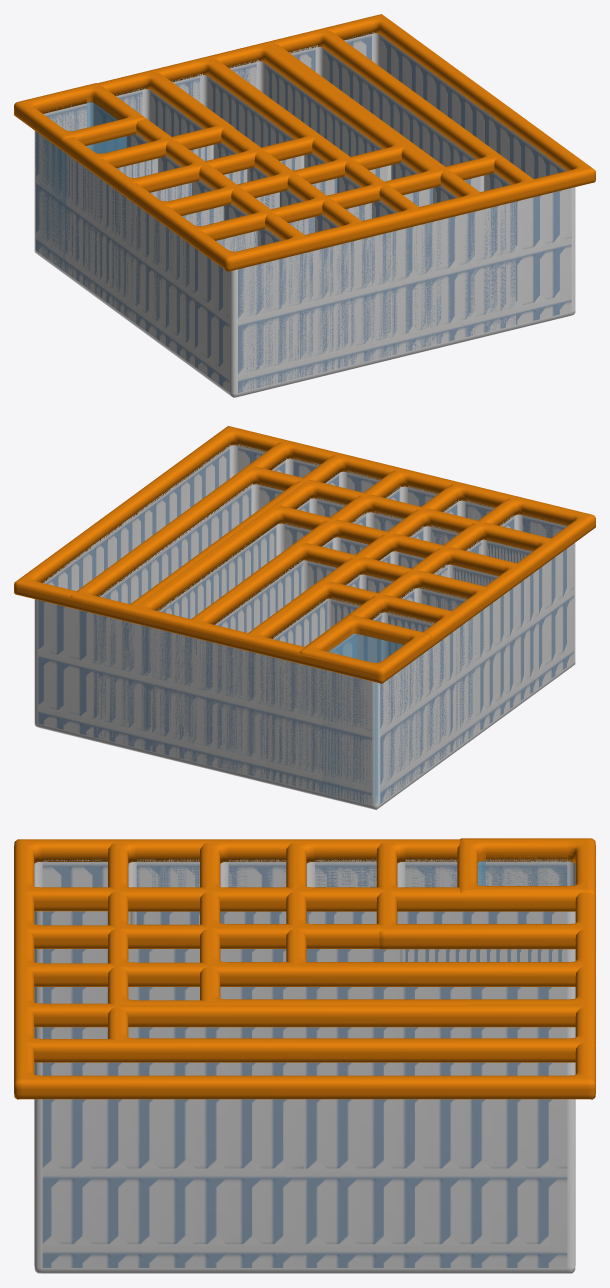
Rendered from baskets.fbx.
3 views of the same model, one above another, from view 1: azimuth 30°, elevation 25°; view 2: azimuth 150°, elevation 25°; view 3: azimuth 270°, elevation 25° (orthographic). The views are drawn at different scales.
Parts seen in each view (by area): view 1: 6x6, 5x5, 4x4, 6x4, 6x3, 3x3, 6x5, 4x3, 6x2, 6x1, ultimateBox, 5x4 (+9 smaller); view 2: 6x6, 5x5, 6x4, 4x4, 4x3, 5x4, 3x3, 6x2, 6x1, 6x5, 4x2, ultimateBox (+9 smaller); view 3: 6x6, 6x5, 6x3, 6x4, 5x1, 5x5, 6x2, 2x2, 4x4, ultimateBox, 6x1, 3x3 (+7 smaller).
Boxes of the visible parts, <box> form: 6x6: <box>14,14,595,397</box>; 5x5: <box>16,29,496,369</box>; 4x4: <box>19,44,403,344</box>; 6x4: <box>39,42,485,396</box>; 6x3: <box>38,57,424,393</box>; 3x3: <box>18,59,321,317</box>; 6x5: <box>77,29,539,391</box>; 4x3: <box>51,59,347,226</box>; 6x2: <box>45,73,367,395</box>; 6x1: <box>39,102,309,395</box>; ultimateBox: <box>14,83,145,270</box>; 5x4: <box>49,44,440,251</box>; 6x6: <box>14,426,595,809</box>; 5x5: <box>71,466,559,806</box>; 6x4: <box>124,453,584,807</box>; 4x4: <box>130,505,524,805</box>; 4x3: <box>187,521,517,797</box>; 5x4: <box>129,480,550,805</box>; 3x3: <box>185,542,486,806</box>; 6x2: <box>245,482,588,808</box>; 6x1: <box>300,497,582,807</box>; 6x5: <box>70,440,585,781</box>; 4x2: <box>244,533,508,799</box>; ultimateBox: <box>299,614,432,804</box>; 6x6: <box>14,839,595,1273</box>; 6x5: <box>14,847,594,1075</box>; 6x3: <box>14,842,590,1003</box>; 6x4: <box>14,841,589,1038</box>; 5x1: <box>108,844,579,924</box>; 5x5: <box>108,839,595,1046</box>; 6x2: <box>14,842,583,963</box>; 2x2: <box>376,842,583,961</box>; 4x4: <box>200,842,595,1002</box>; ultimateBox: <box>457,838,595,894</box>; 6x1: <box>14,842,459,925</box>; 3x3: <box>286,842,583,968</box>.
Size of the model in its own units: 77.73 by 30.01 by 78.09.
4 materials, 1 textured.
